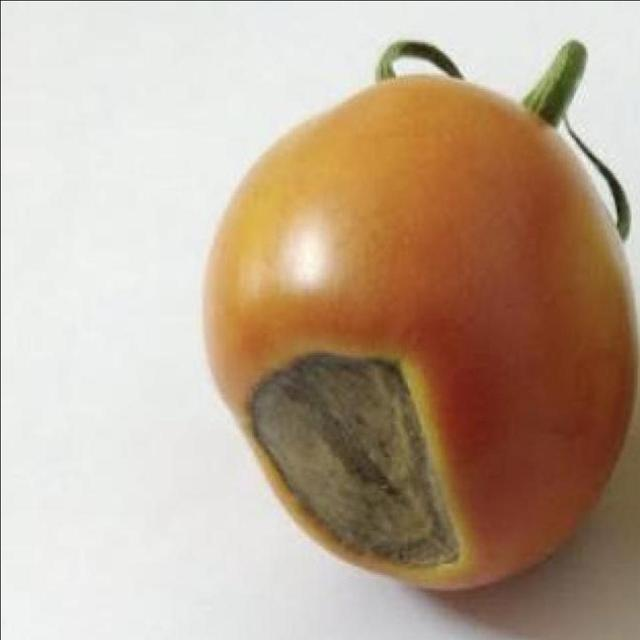Blossom End Rot Fruit: (157, 233, 309, 393)
